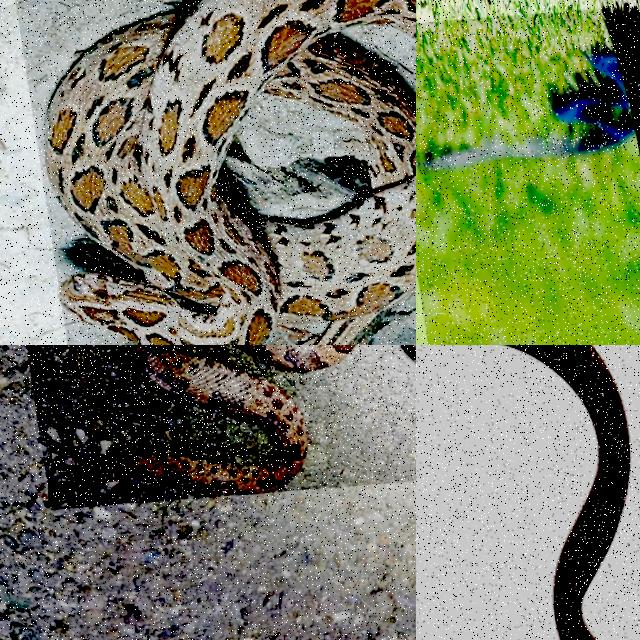Daboia siamensis: (44, 0, 415, 344)
Ophiophagus hannah: (504, 345, 629, 639), (419, 5, 639, 169)
Ovophis monticola: (50, 345, 307, 504)
snake: (44, 0, 415, 344), (50, 345, 307, 504), (504, 345, 629, 639), (419, 5, 639, 169)
